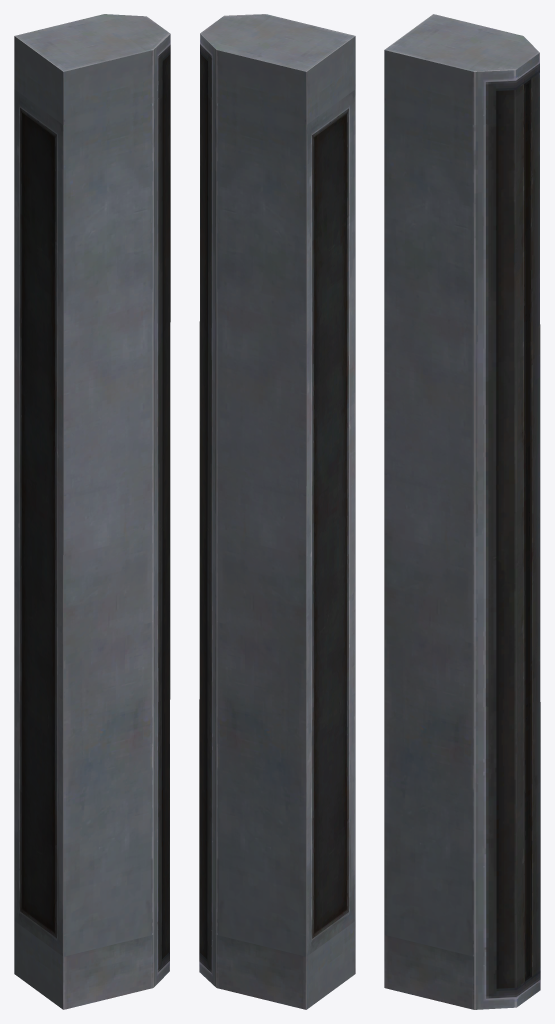
The model's file is all_item_imp_scaffold_post.glb.
3 views of the same model, side by side, from view 1: azimuth 30°, elevation 25°; view 2: azimuth 150°, elevation 25°; view 3: azimuth 330°, elevation 25° (orthographic).
Visible parts, largest first — view 1: all_item_imp_scaffold_post; view 2: all_item_imp_scaffold_post; view 3: all_item_imp_scaffold_post.
Boxes of the visible parts, x1,y1,x2,y2 form: all_item_imp_scaffold_post: (14, 14, 170, 1009); all_item_imp_scaffold_post: (199, 14, 355, 1009); all_item_imp_scaffold_post: (384, 14, 540, 1009).
Bounding box in the file's own units: 0.1251 × 0.9396 × 0.0895.
1 material, 1 textured.
